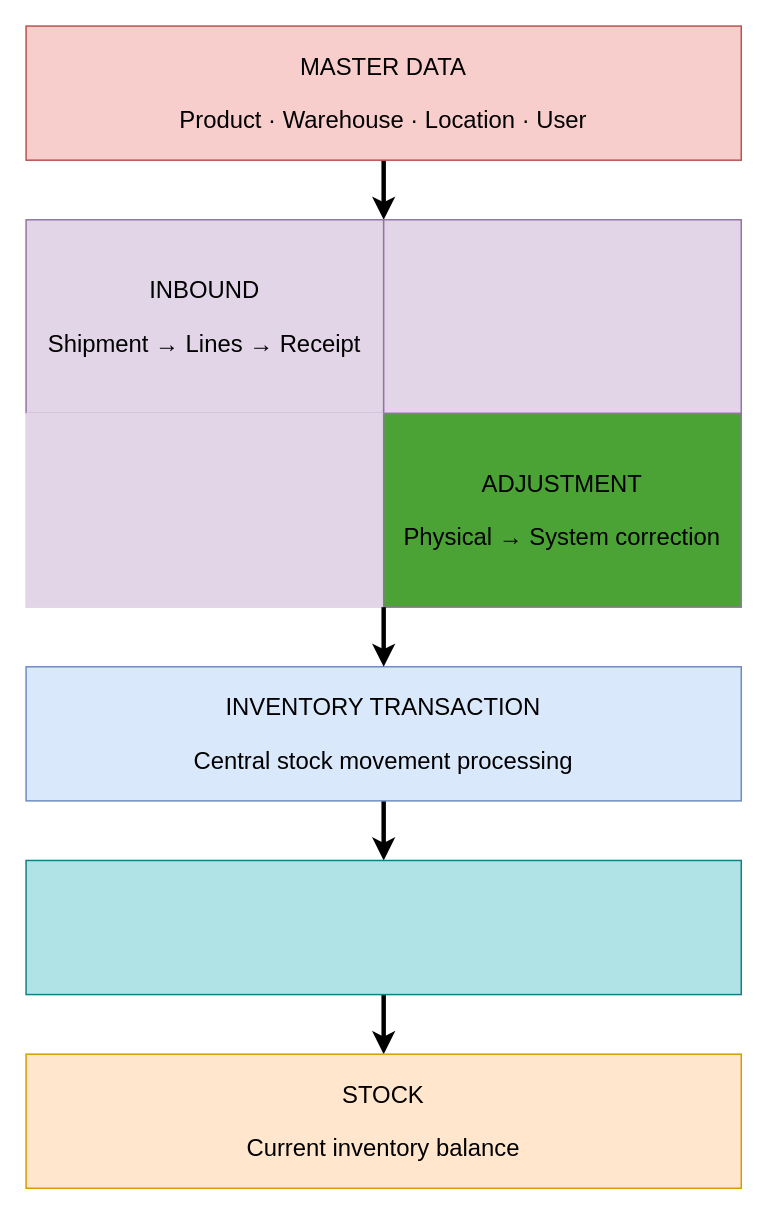
Image size: 767x1214. Some labels were removed from this diagram. The shapes that lost their labels are listed below. From the top down, each one's centre as x and y in pixels, then its label:
(x=561, y=315): OUTBOUND Order → Lines → Picking
(x=204, y=509): TRANSFER Source → Destination
(x=383, y=927): STOCK LEDGER Immutable movement history
